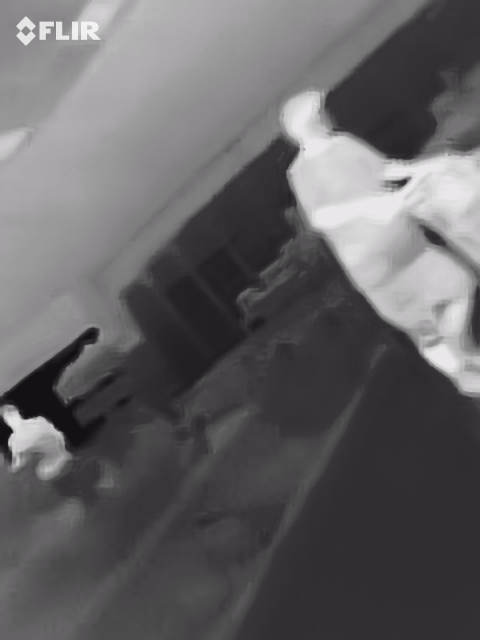head: (280, 96, 332, 143)
